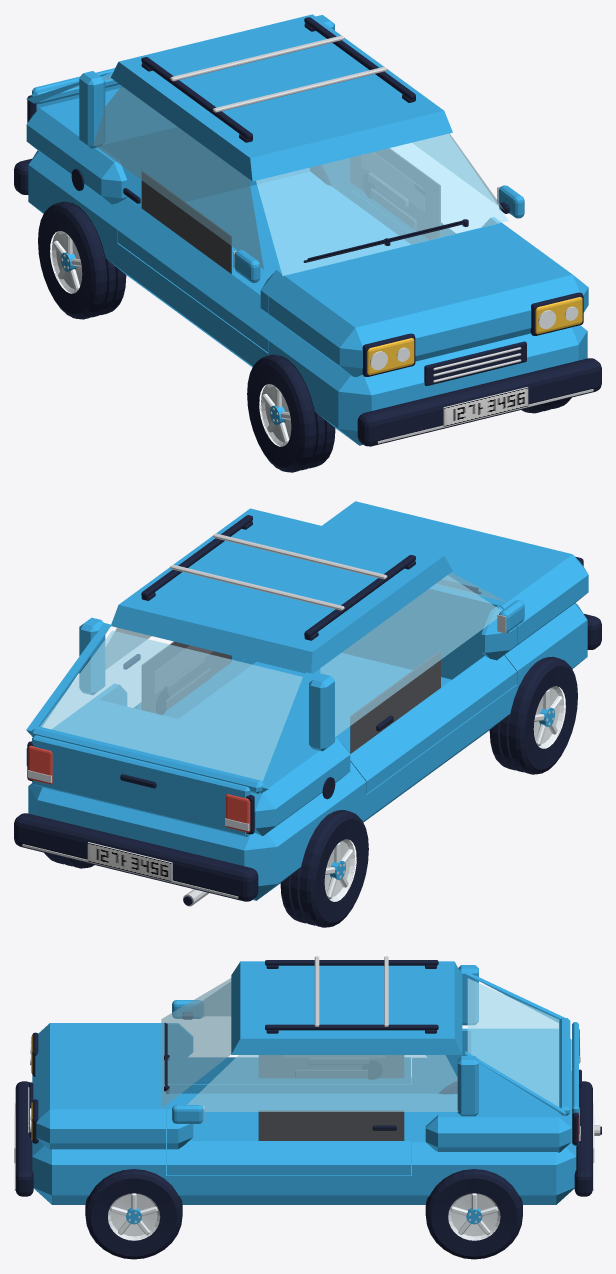
Rendered from V01_hatchback_v2.glb.
The picture shows the model from 3 angles, top to bottom: view 1: azimuth 30°, elevation 25°; view 2: azimuth 150°, elevation 25°; view 3: azimuth 270°, elevation 25°; orthographic projection. The views are drawn at different scales.
Visible parts, largest first — view 1: Body, Glass, Door_R, Wheel_FR, Wheel_RR, Bumper_Front, DoorDetail_L, RoofRack, DoorDetail_R, Grille, Headlight_-1, Headlight_1 (+6 smaller); view 2: Body, Trunk, Glass, Door_R, Wheel_RR, Wheel_FR, Bumper_Rear, RoofRack, DoorDetail_L, DoorDetail_R, LicensePlate_Rear, Taillight_-1 (+2 smaller); view 3: Body, Glass, Trunk, Door_L, Wheel_FL, Wheel_RL, DoorDetail_L, Door_R, DoorDetail_R, RoofRack, Bumper_Front, Bumper_Rear (+2 smaller).
Part boxes in pixels (x1,y1,x2,y2): Body: [26, 14, 588, 445]; Glass: [93, 86, 508, 275]; Door_R: [117, 205, 286, 352]; Wheel_FR: [247, 354, 335, 472]; Wheel_RR: [38, 201, 126, 319]; Bumper_Front: [357, 358, 601, 446]; DoorDetail_L: [350, 148, 440, 239]; RoofRack: [141, 17, 415, 142]; DoorDetail_R: [123, 171, 231, 273]; Grille: [424, 341, 526, 385]; Headlight_-1: [362, 333, 415, 376]; Headlight_1: [530, 292, 583, 335]; Body: [26, 501, 588, 900]; Trunk: [26, 623, 313, 836]; Glass: [105, 572, 507, 736]; Door_R: [350, 606, 516, 793]; Wheel_RR: [280, 810, 368, 927]; Wheel_FR: [489, 656, 577, 774]; Bumper_Rear: [14, 813, 258, 901]; RoofRack: [141, 515, 415, 640]; DoorDetail_L: [123, 641, 231, 714]; DoorDetail_R: [350, 651, 440, 753]; LicensePlate_Rear: [87, 842, 172, 881]; Taillight_-1: [225, 794, 254, 834]; Body: [32, 961, 576, 1204]; Glass: [161, 978, 458, 1111]; Trunk: [465, 971, 581, 1145]; Door_L: [167, 1108, 410, 1175]; Wheel_FL: [85, 1169, 182, 1259]; Wheel_RL: [425, 1169, 522, 1259]; DoorDetail_L: [258, 1110, 404, 1140]; Door_R: [167, 1023, 410, 1083]; DoorDetail_R: [259, 1055, 403, 1079]; RoofRack: [265, 956, 438, 1033]; Bumper_Front: [14, 1081, 33, 1196]; Bumper_Rear: [574, 1081, 593, 1196].
Bounding box in the file's own units: 1.72 × 1.57 × 3.87.
11 materials, 1 textured.
